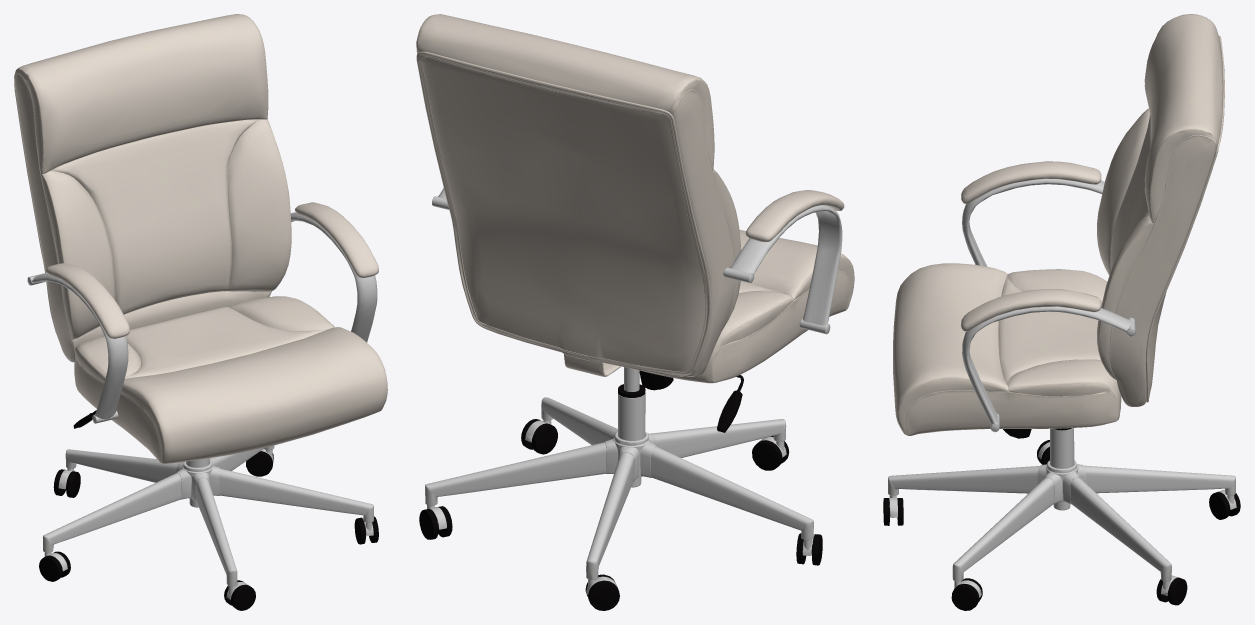
File: abo-B07V6Z97QJ.glb
3 views of the same model, side by side, from view 1: azimuth 30°, elevation 25°; view 2: azimuth 150°, elevation 25°; view 3: azimuth 270°, elevation 25° (orthographic). The views are drawn at different scales.
Bounding box in the file's own units: 0.7449 × 1.1 × 0.7447.
1 material, 1 textured.
